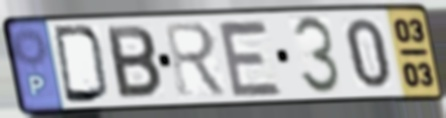0: (342, 16, 395, 91)
3: (290, 13, 343, 98)
B: (104, 24, 165, 102)
D: (50, 24, 111, 106)
E: (213, 18, 286, 99)
R: (161, 20, 232, 99)
